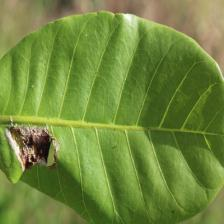leaf miner: (0, 10, 224, 224), (4, 124, 58, 172)
